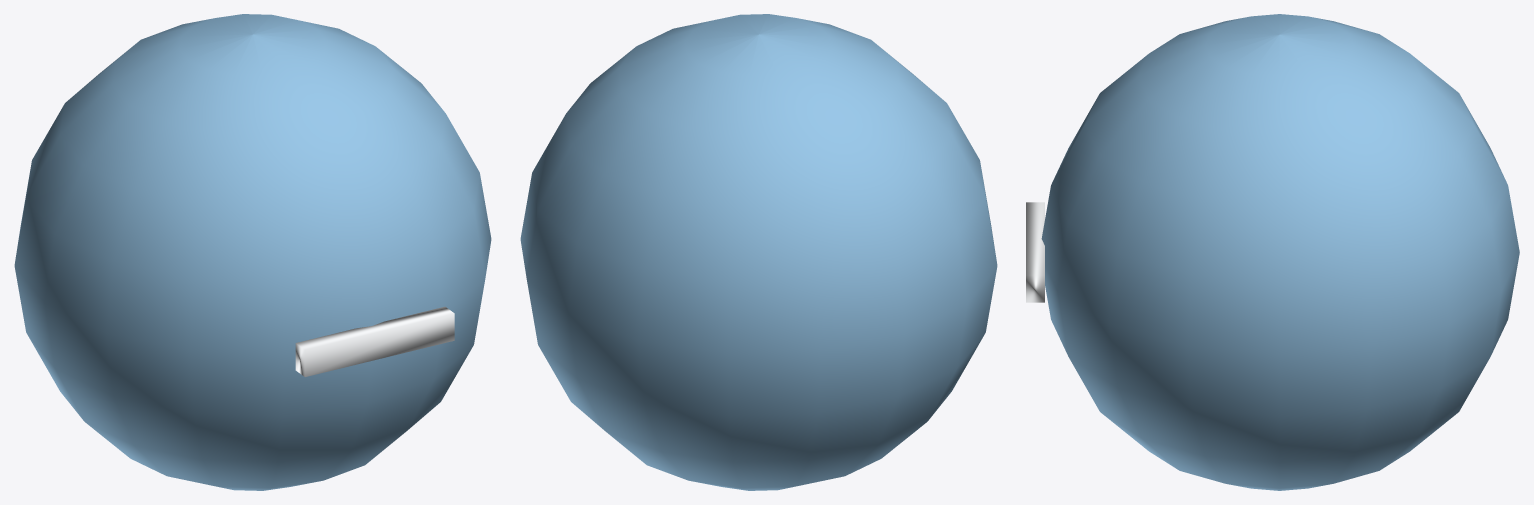
The model's file is charge-sphere-negative.glb.
3 renders of one model, left to right at view 1: azimuth 30°, elevation 25°; view 2: azimuth 150°, elevation 25°; view 3: azimuth 270°, elevation 25°, orthographic.
Visible parts, largest first — view 1: charge, minus; view 2: charge; view 3: charge, minus.
Part boxes in pixels (x1,y1,x2,y2): charge: (14, 14, 491, 490); minus: (295, 306, 454, 376); charge: (520, 14, 997, 490); charge: (1041, 14, 1519, 490); minus: (1026, 202, 1044, 302).
Size of the model in its own units: 0.64 by 0.64 by 0.6575.
